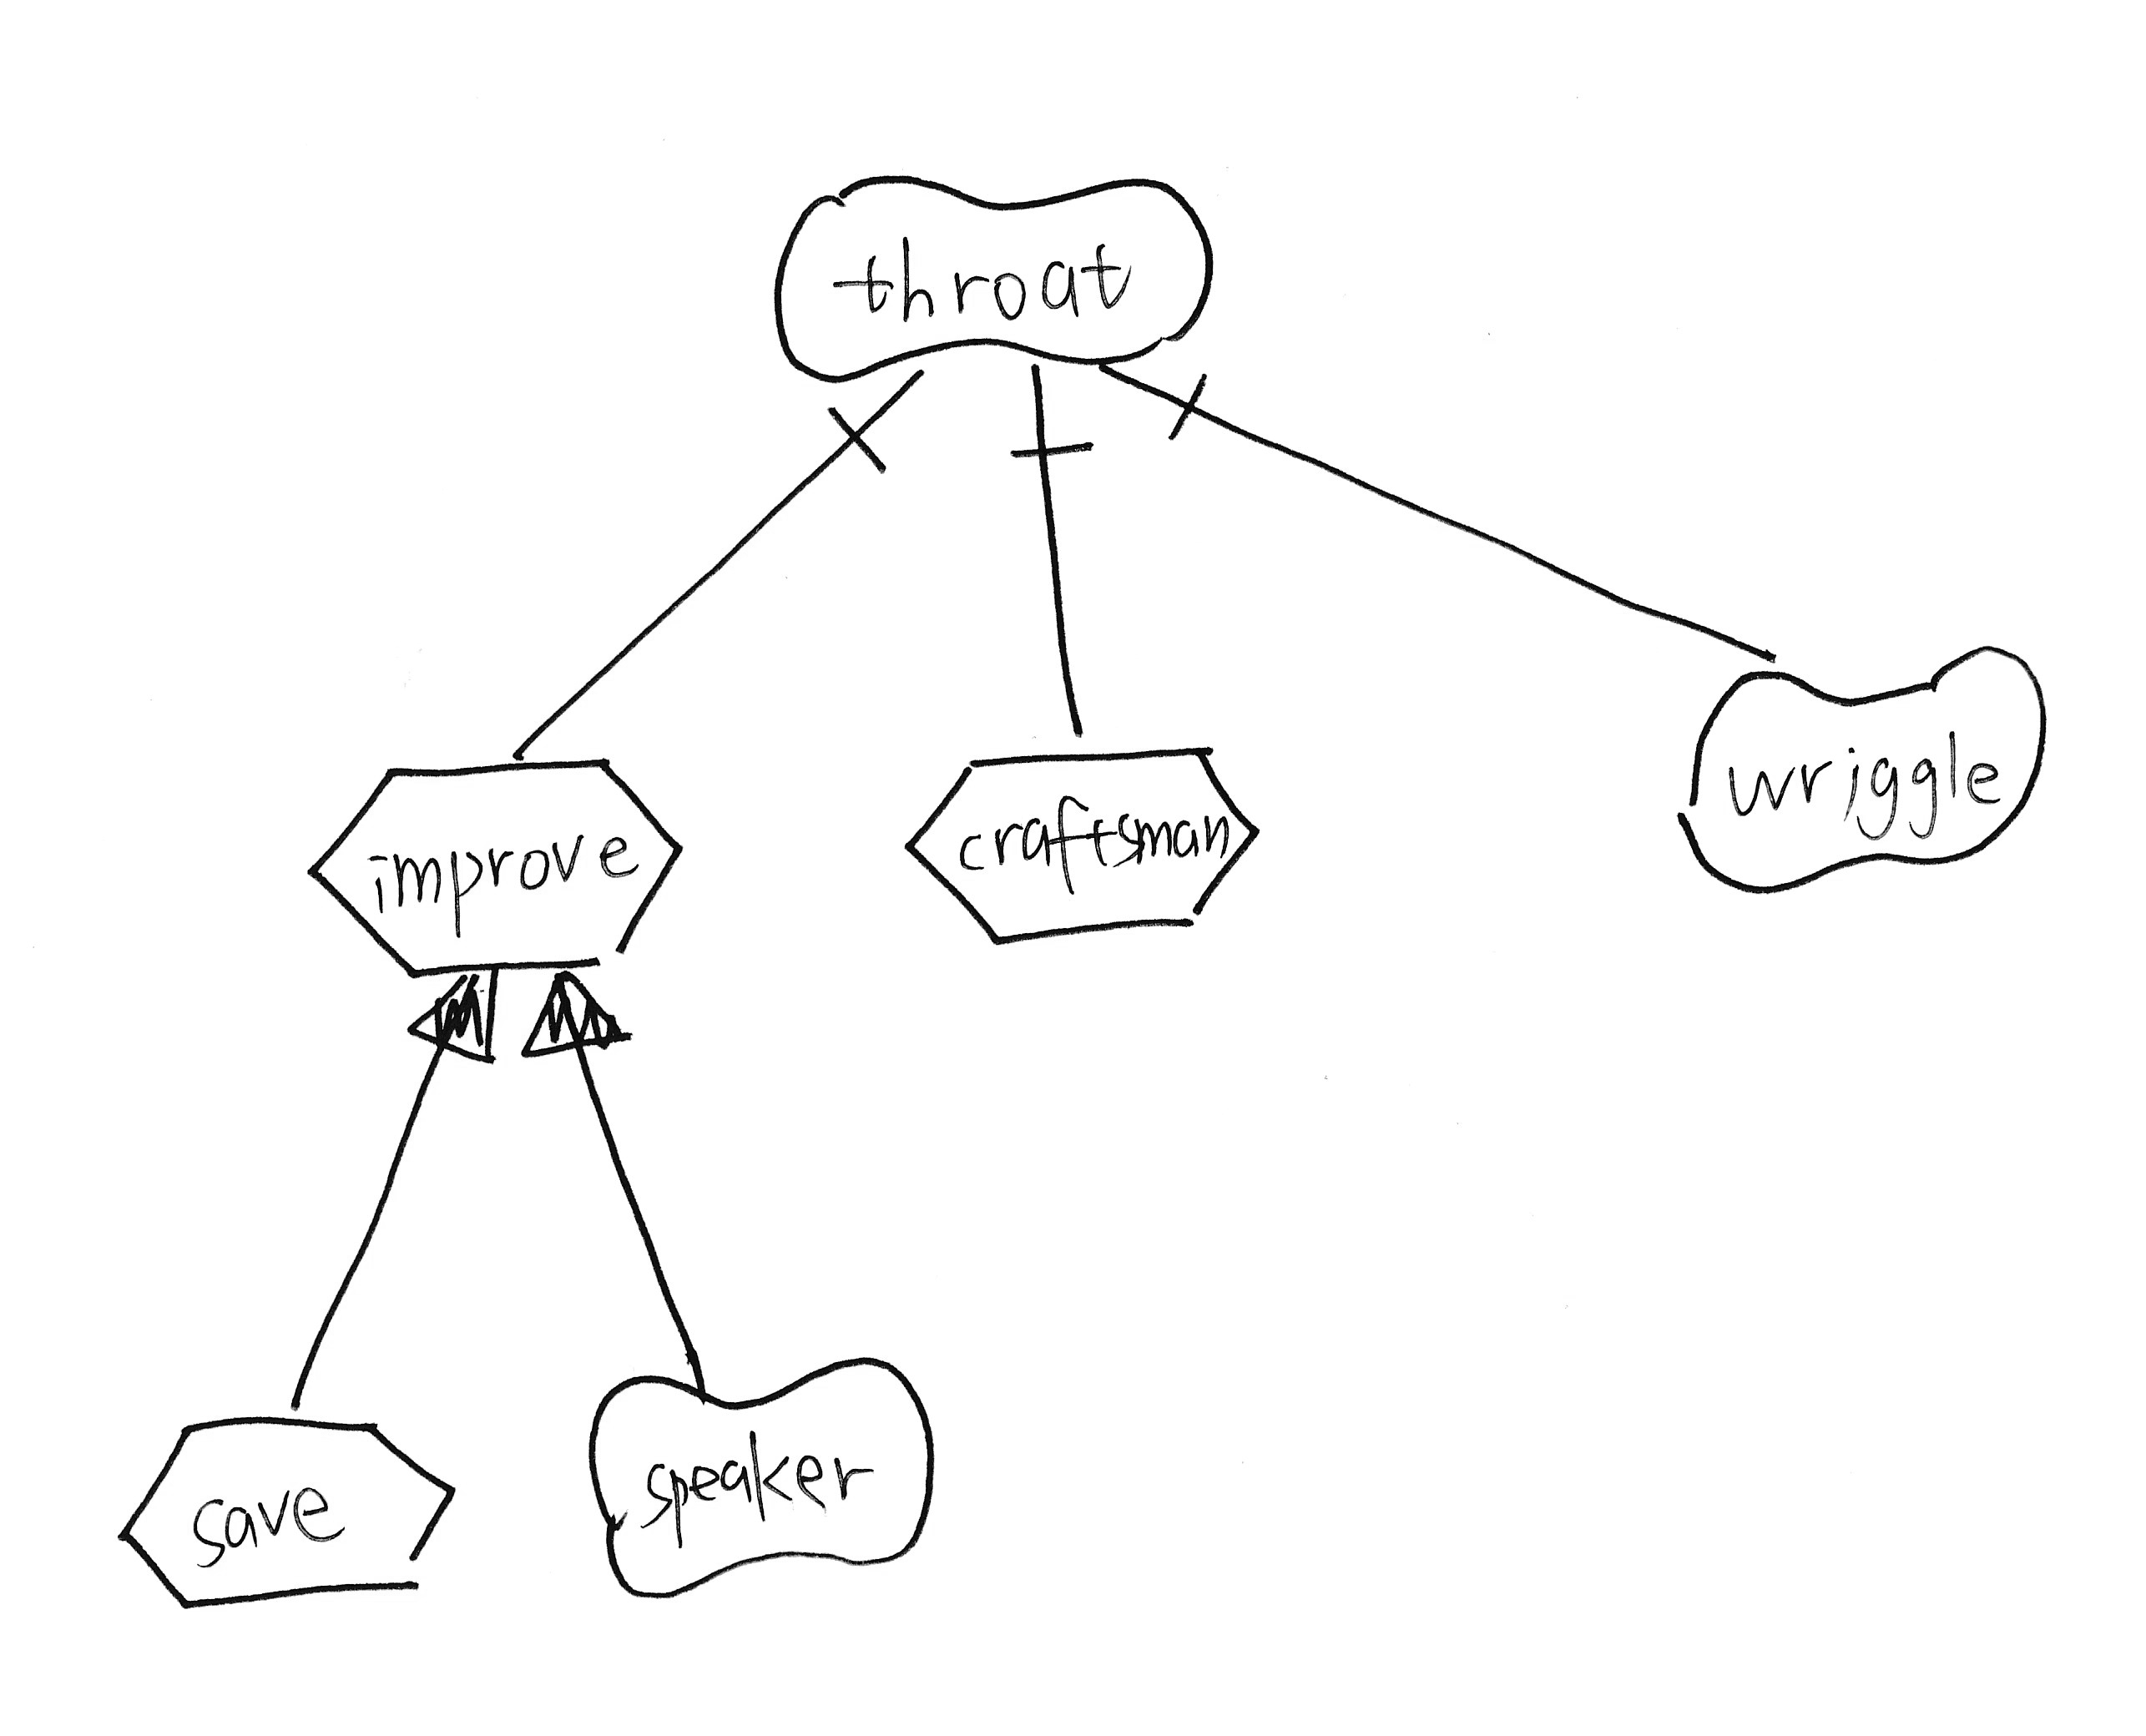and: (991, 402, 1116, 498), (810, 388, 909, 487), (1131, 368, 1240, 452)
or: (519, 965, 643, 1070), (399, 967, 510, 1081)
quality: (1641, 631, 2072, 903), (750, 158, 1219, 383), (574, 1343, 950, 1617)
task: (284, 737, 689, 987), (92, 1387, 473, 1631), (890, 733, 1274, 960)
